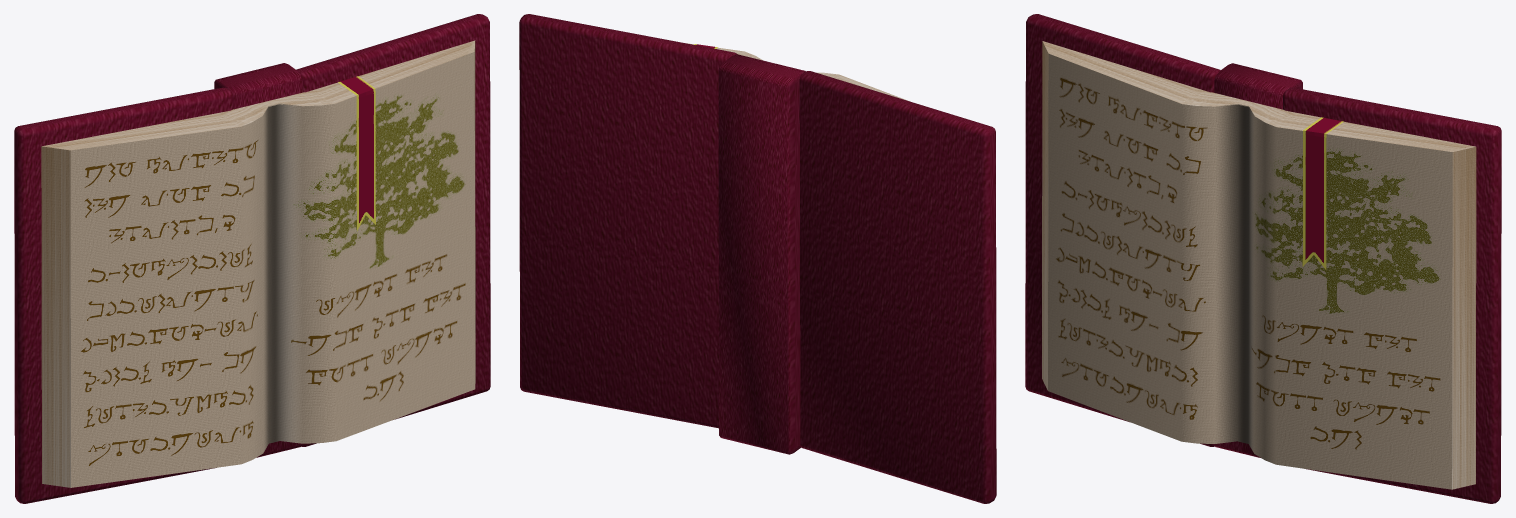
Rendered from Book.DAE.
3 views of the same model, side by side, from view 1: azimuth 30°, elevation 25°; view 2: azimuth 150°, elevation 25°; view 3: azimuth 330°, elevation 25° (orthographic).
Parts seen in each view (by area): view 1: Magic_Tome; view 2: Magic_Tome; view 3: Magic_Tome.
Boxes of the visible parts, left/top/right/bottom form: Magic_Tome: left=14, top=14, right=490, bottom=503; Magic_Tome: left=519, top=14, right=996, bottom=503; Magic_Tome: left=1025, top=14, right=1501, bottom=503.
Size of the model in its own units: 162 by 24.54 by 123.
